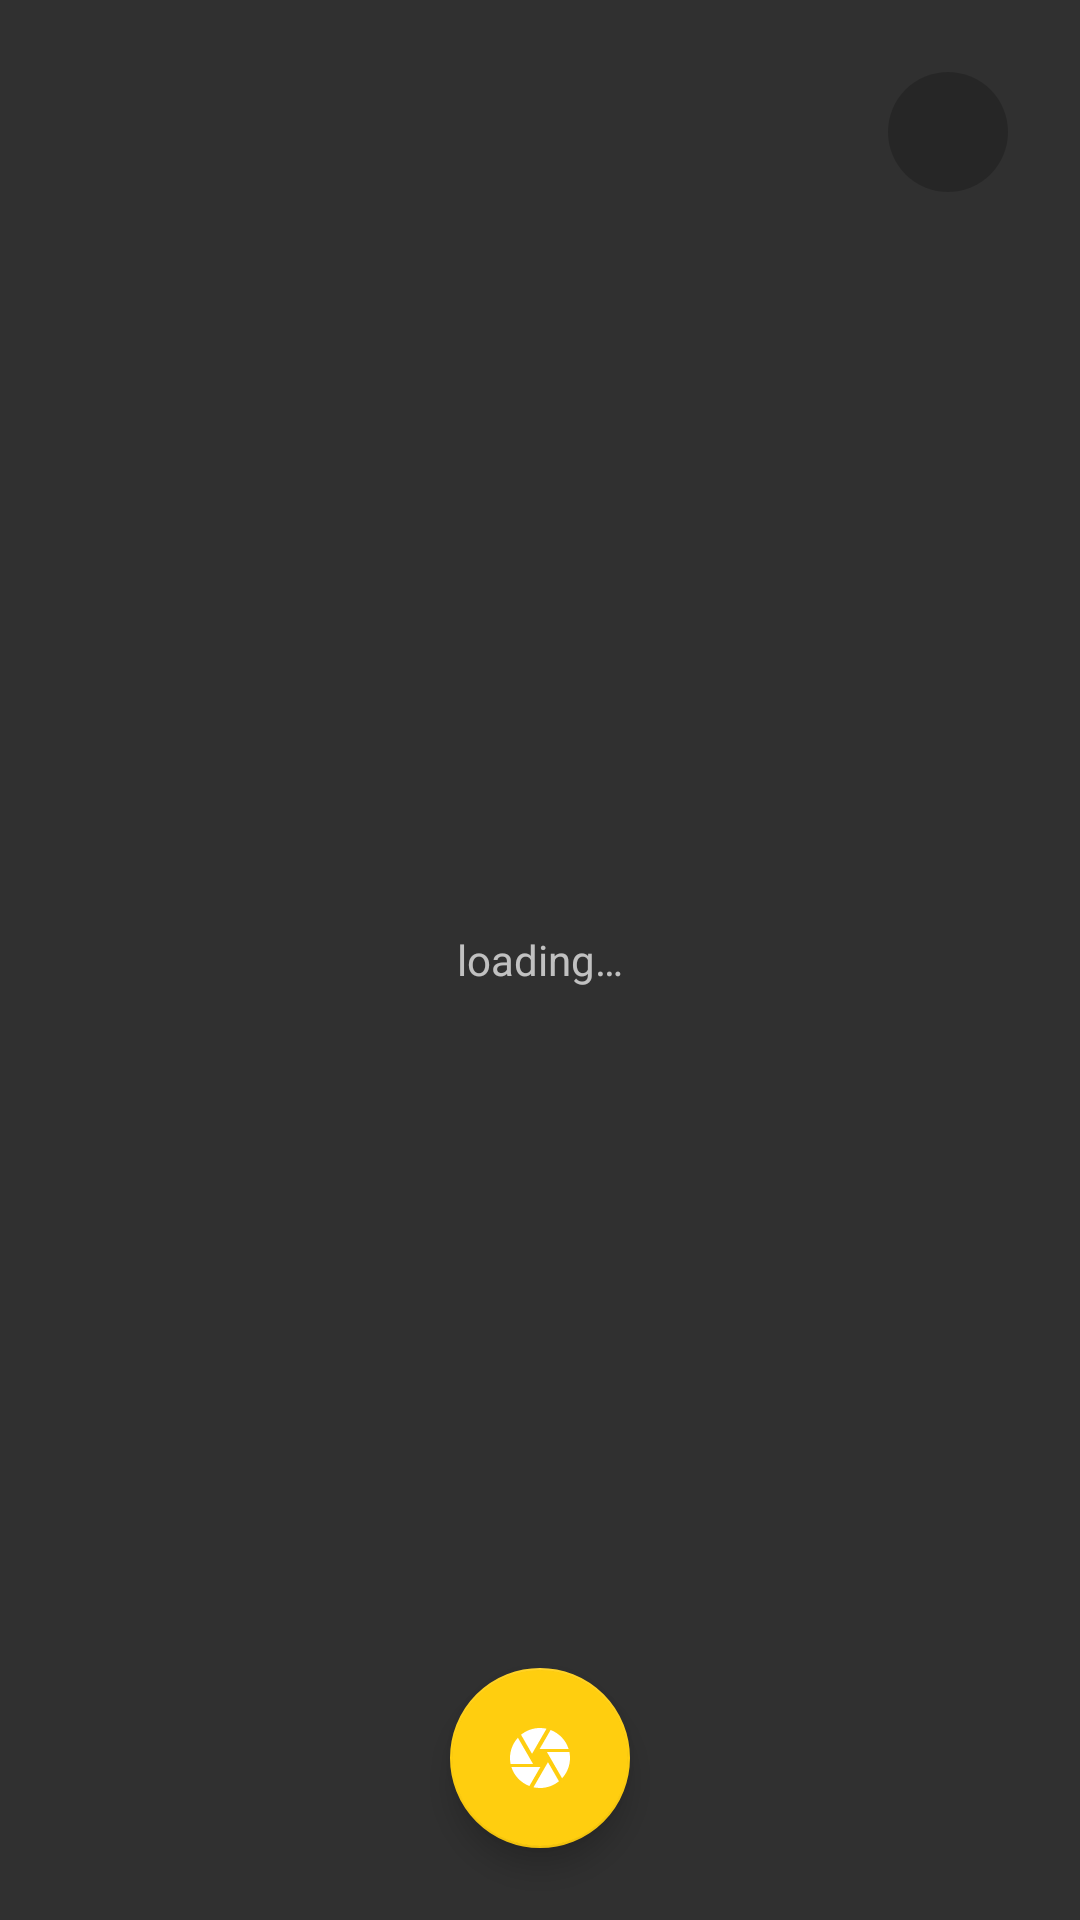

Icon click points for this 1080×1920 phone screenshot, format (x=x, y=y):
camera: (x=540, y=1758)
